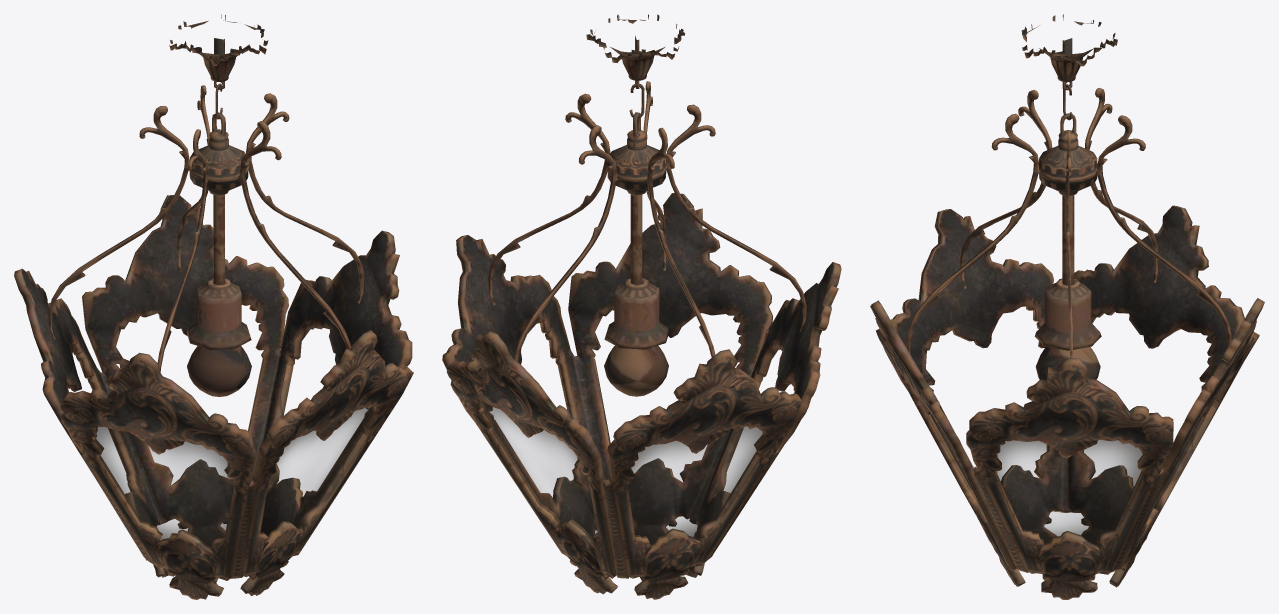
File: polyhaven-lantern-chandelier-01.glb
3 views of the same model, side by side, from view 1: azimuth 30°, elevation 25°; view 2: azimuth 150°, elevation 25°; view 3: azimuth 270°, elevation 25° (orthographic).
Visible parts, largest first — view 1: lantern_chandelier_01_0, lantern_chandelier_01_1, lantern_chandelier_01_2; view 2: lantern_chandelier_01_0, lantern_chandelier_01_1, lantern_chandelier_01_2; view 3: lantern_chandelier_01_0, lantern_chandelier_01_1, lantern_chandelier_01_2.
Part boxes in pixels (left/top/right/bottom): lantern_chandelier_01_0: left=14, top=14, right=413, bottom=599; lantern_chandelier_01_1: left=94, top=406, right=373, bottom=548; lantern_chandelier_01_2: left=187, top=346, right=251, bottom=396; lantern_chandelier_01_0: left=442, top=14, right=841, bottom=599; lantern_chandelier_01_1: left=480, top=400, right=763, bottom=545; lantern_chandelier_01_2: left=604, top=345, right=668, bottom=396; lantern_chandelier_01_0: left=870, top=14, right=1264, bottom=599; lantern_chandelier_01_1: left=918, top=400, right=1209, bottom=545; lantern_chandelier_01_2: left=1035, top=347, right=1100, bottom=379.
Size of the model in its own units: 0.5792 by 0.8776 by 0.5746.
2 materials, 2 textured.
